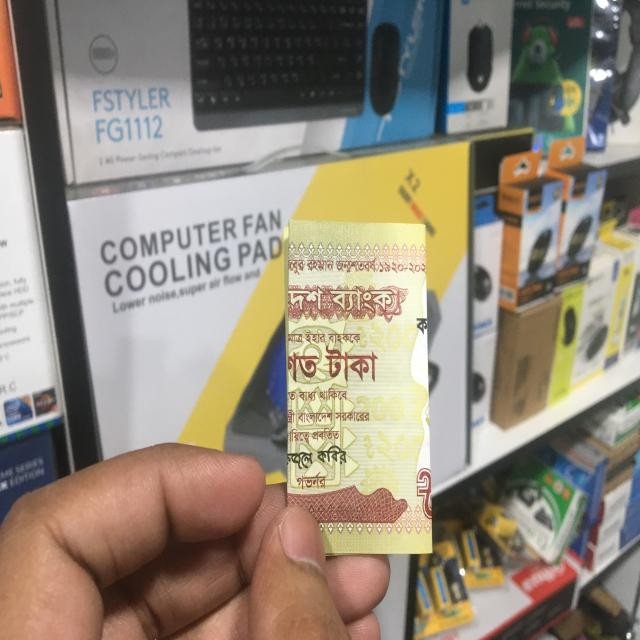Taka: (289, 221, 437, 556)
